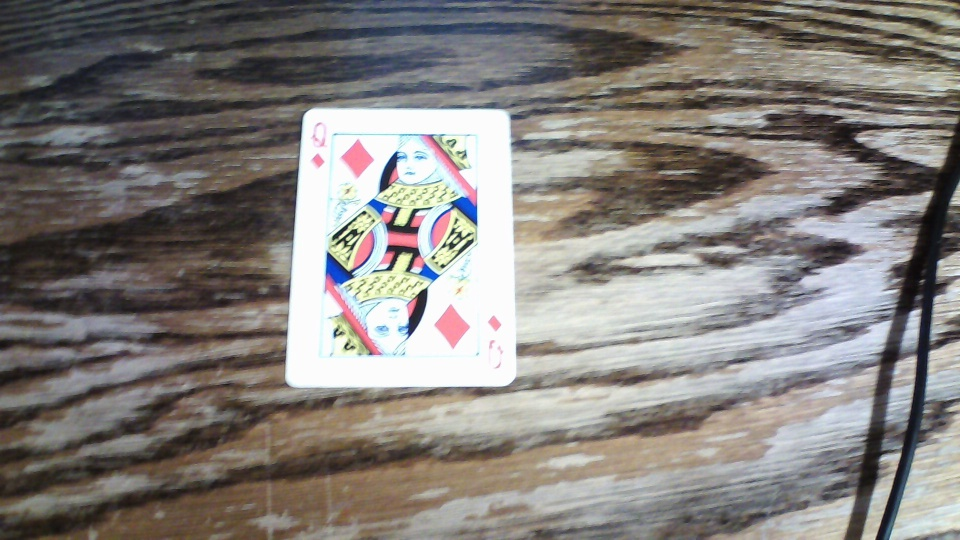queen: (286, 108, 517, 389)
